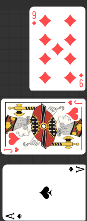8D: (77, 72, 84, 89)
9D: (31, 10, 37, 27)
AC: (67, 166, 84, 175)
